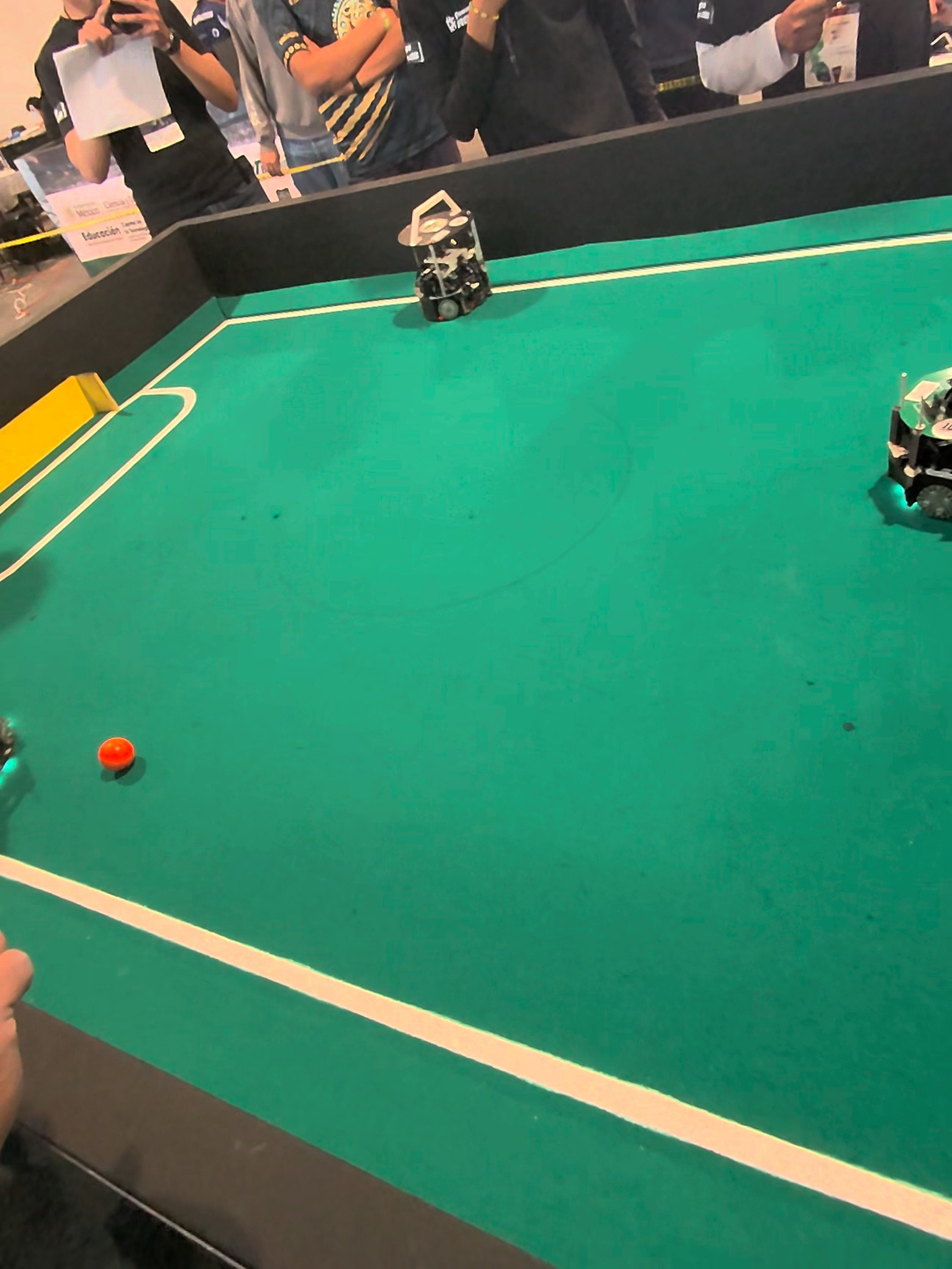Robot: (882, 348, 952, 534), (411, 188, 497, 331)
pelota: (96, 736, 136, 783)
